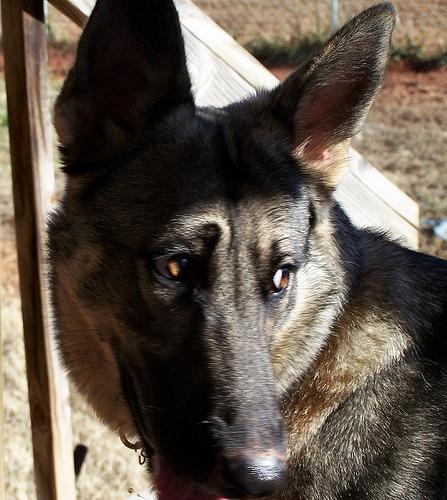German_shepherd: (40, 0, 444, 496)
